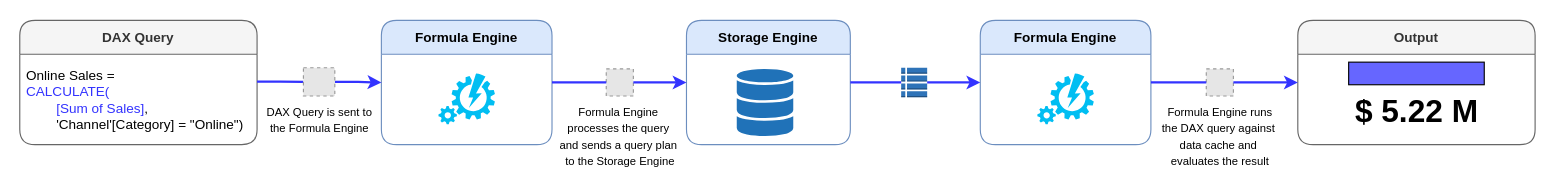
Some shapes in this 1555 by 190 pixel diagram are drawn without their labels. Grey dashed boxes stand in for pictures. The centre of each missing label's shape, as x and y in pixels:
"Online Sales" belongs at point 1416,73.
"Storage Engine executes plan and sends a data cache back to the Formula Engine" belongs at point 913,82.
